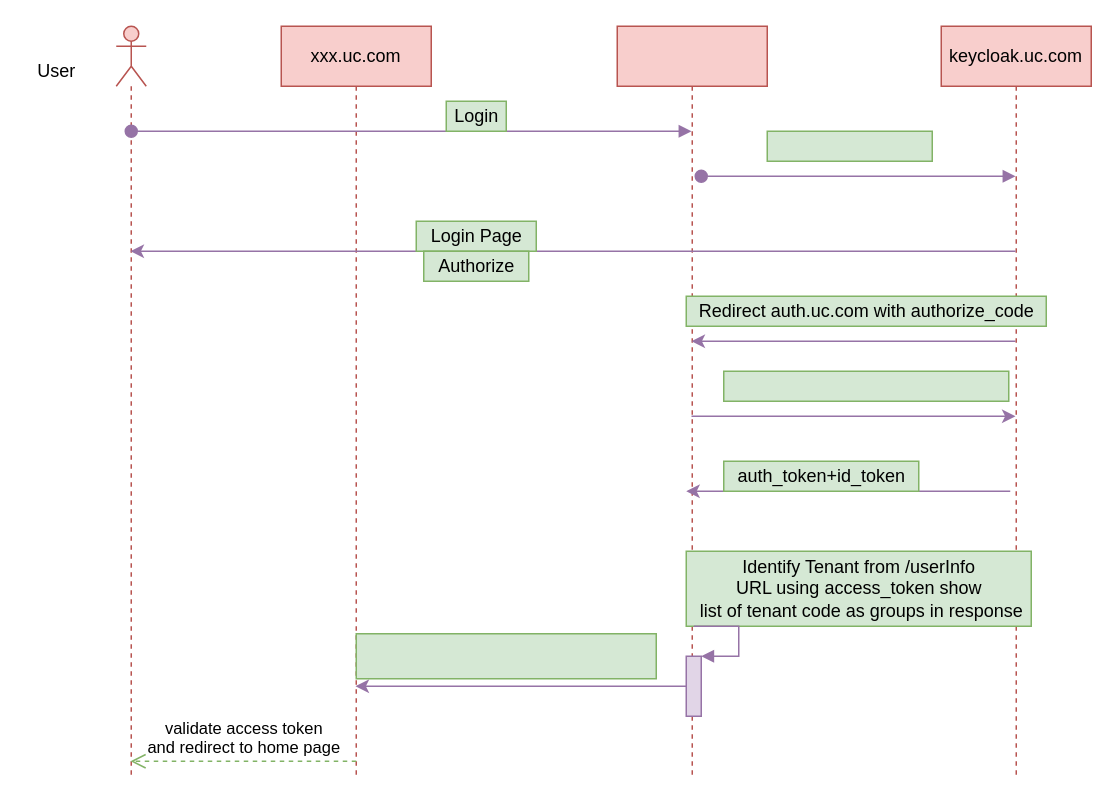
The diagram is 1118 pixels wide and 803 high, and some of its shapes have lost their labels. The shapes that lost their labels are listed below. From the top down, each one's box as (x1, y1, x2, y2) in pixels, then its label:
(766, 130, 932, 161): Redirect to keycloak
(616, 25, 767, 776): auth.uc.com
(722, 370, 1009, 401): Authorize_code+client_id/Secret
(355, 632, 656, 679): On selecting tenant call xxx.uc.com with access_token received before
